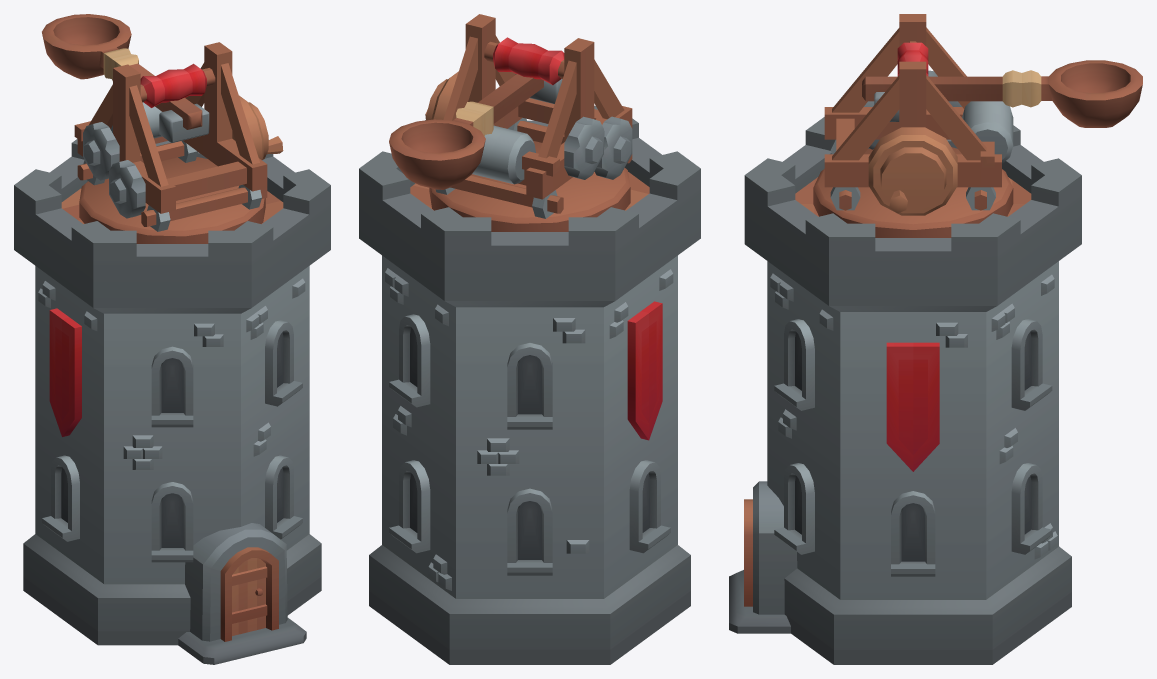
Rendered from kaykit-medieval-hexagon-pack-building-tower-catapult-red.glb.
The picture shows the model from 3 angles, left to right: view 1: azimuth 30°, elevation 25°; view 2: azimuth 150°, elevation 25°; view 3: azimuth 270°, elevation 25°; orthographic projection. The views are drawn at different scales.
Visible parts, largest first — view 1: building_tower_catapult_red, catapult_turret_red, catapult_arm_red; view 2: building_tower_catapult_red, catapult_turret_red, catapult_arm_red; view 3: building_tower_catapult_red, catapult_turret_red, catapult_arm_red.
Part boxes in pixels (x1=…): building_tower_catapult_red: x1=14, y1=139, x2=330, y2=664; catapult_turret_red: x1=74, y1=42, x2=283, y2=243; catapult_arm_red: x1=42, y1=14, x2=209, y2=142; building_tower_catapult_red: x1=359, y1=106, x2=700, y2=664; catapult_turret_red: x1=425, y1=14, x2=632, y2=231; catapult_arm_red: x1=389, y1=74, x2=562, y2=189; building_tower_catapult_red: x1=729, y1=117, x2=1081, y2=664; catapult_turret_red: x1=813, y1=14, x2=1013, y2=237; catapult_arm_red: x1=862, y1=60, x2=1142, y2=127.
Size of the model in its own units: 0.9297 by 1.96 by 1.3.
Materials: 1 (1 with a texture image).
